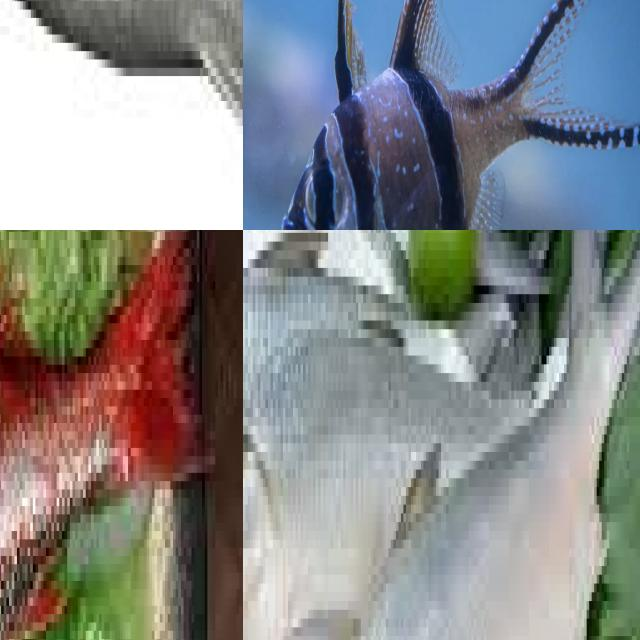fish: (243, 230, 640, 640), (0, 230, 223, 640), (243, 0, 609, 230), (0, 0, 243, 230)
